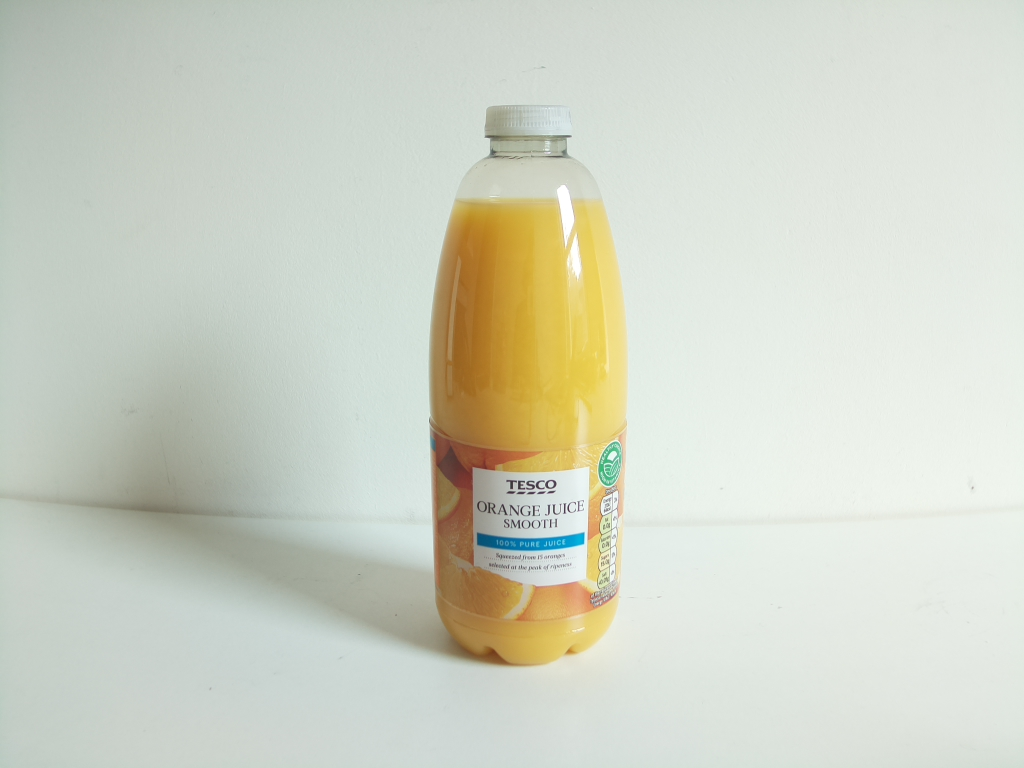juice: (419, 101, 636, 675)
